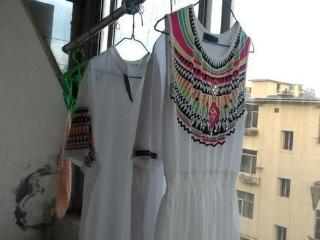short sleeve top: (62, 45, 195, 239)
vest: (153, 4, 252, 239)
